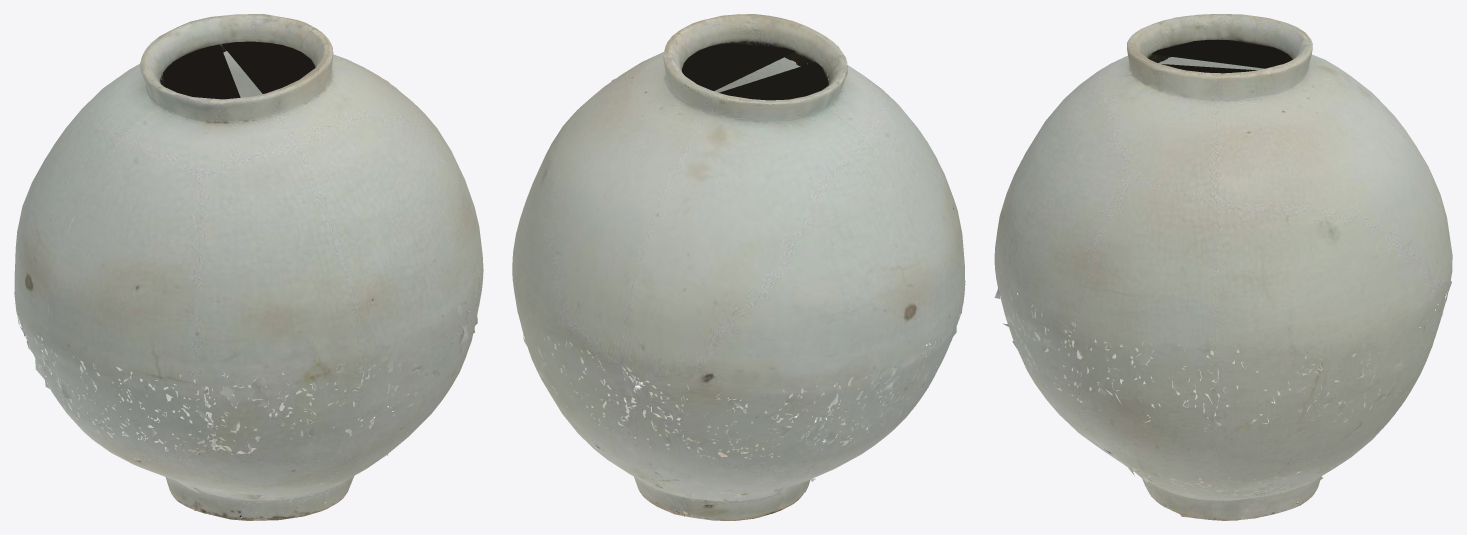
Rendered from jar1983.glb.
3 renders of one model, left to right at view 1: azimuth 30°, elevation 25°; view 2: azimuth 150°, elevation 25°; view 3: azimuth 270°, elevation 25°, orthographic. The views are drawn at different scales.
Visible parts, largest first — view 1: Object_3, Object_5, Object_4; view 2: Object_3, Object_5, Object_4; view 3: Object_3, Object_4, Object_5.
Part boxes in pixels (x1=…): Object_3: x1=14, y1=14, x2=483, y2=520; Object_5: x1=163, y1=41, x2=315, y2=99; Object_4: x1=15, y1=276, x2=479, y2=517; Object_3: x1=512, y1=14, x2=965, y2=520; Object_5: x1=682, y1=43, x2=827, y2=100; Object_4: x1=514, y1=176, x2=965, y2=520; Object_3: x1=994, y1=14, x2=1452, y2=520; Object_4: x1=994, y1=268, x2=1451, y2=520; Object_5: x1=1151, y1=39, x2=1292, y2=73.
Size of the model in its own units: 19.17 by 20.54 by 19.42.
Materials: 2 (1 with a texture image).
